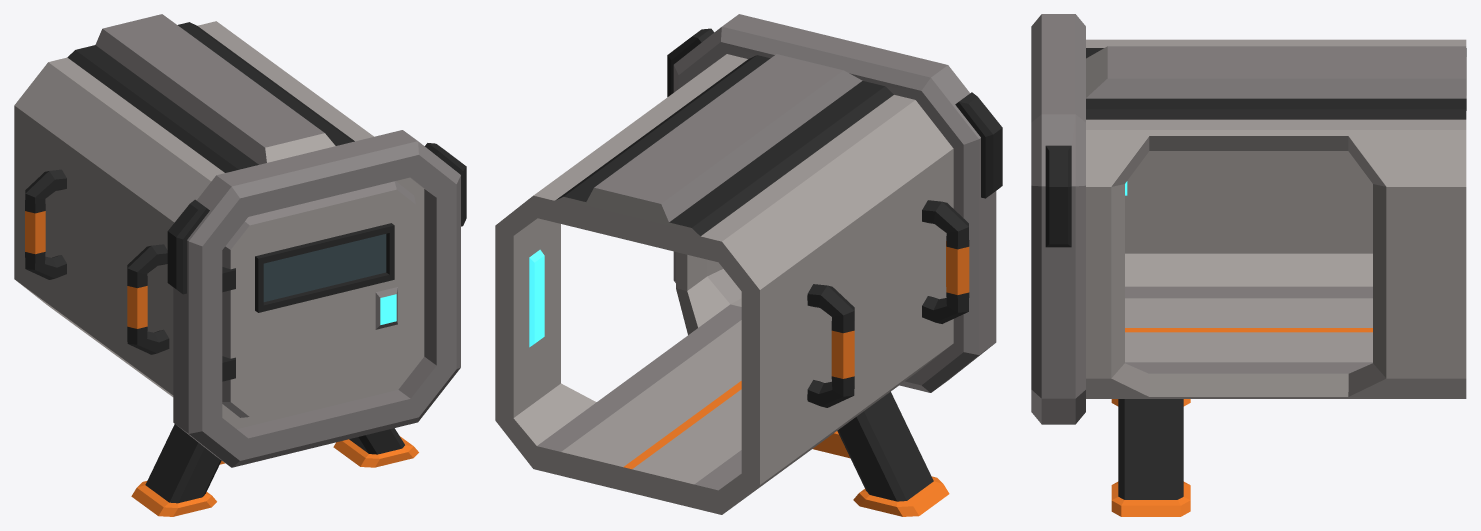
Rendered from scifi_scifi-planet-base-hall-one-start.fbx.
The picture shows the model from 3 angles, left to right: view 1: azimuth 30°, elevation 25°; view 2: azimuth 150°, elevation 25°; view 3: azimuth 270°, elevation 25°; orthographic projection. The views are drawn at different scales.
Parts seen in each view (by area): view 1: scifi_scifi_planet_base_hall_one_start; view 2: scifi_scifi_planet_base_hall_one_start; view 3: scifi_scifi_planet_base_hall_one_start.
Boxes of the visible parts, <box> form: scifi_scifi_planet_base_hall_one_start: <box>14,14,466,516</box>; scifi_scifi_planet_base_hall_one_start: <box>495,14,1002,516</box>; scifi_scifi_planet_base_hall_one_start: <box>1031,14,1466,516</box>.
Size of the model in its own units: 176 by 195 by 200.
